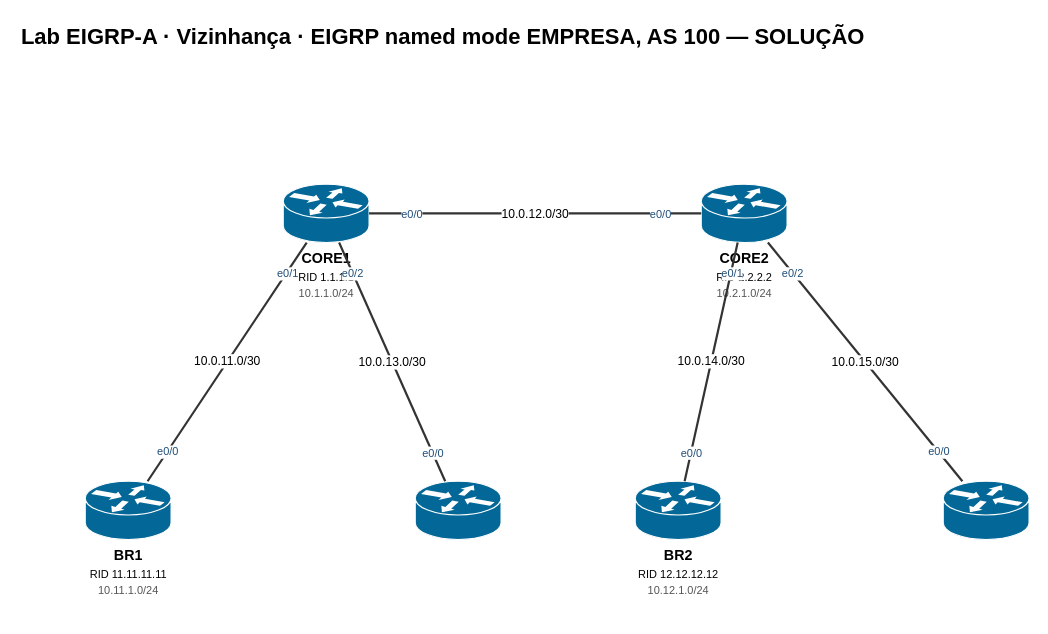
Image size: 1048x634. Some labels were removed from this diagram. The box of each missing label's shape, as (x1, y1, x2, y2) in pixels:
BR3 RID 13.13.13.13 10.13.1.0/24: (414, 480, 501, 540)
DC1 RID 21.21.21.21 10.21.1.0/24 10.21.2.0/24: (942, 480, 1029, 540)
